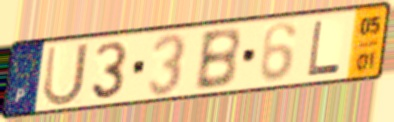3: (146, 28, 191, 99), (89, 40, 130, 101)
6: (257, 20, 299, 85)
B: (192, 25, 243, 93)
L: (306, 19, 344, 78)
U: (40, 41, 91, 109)
